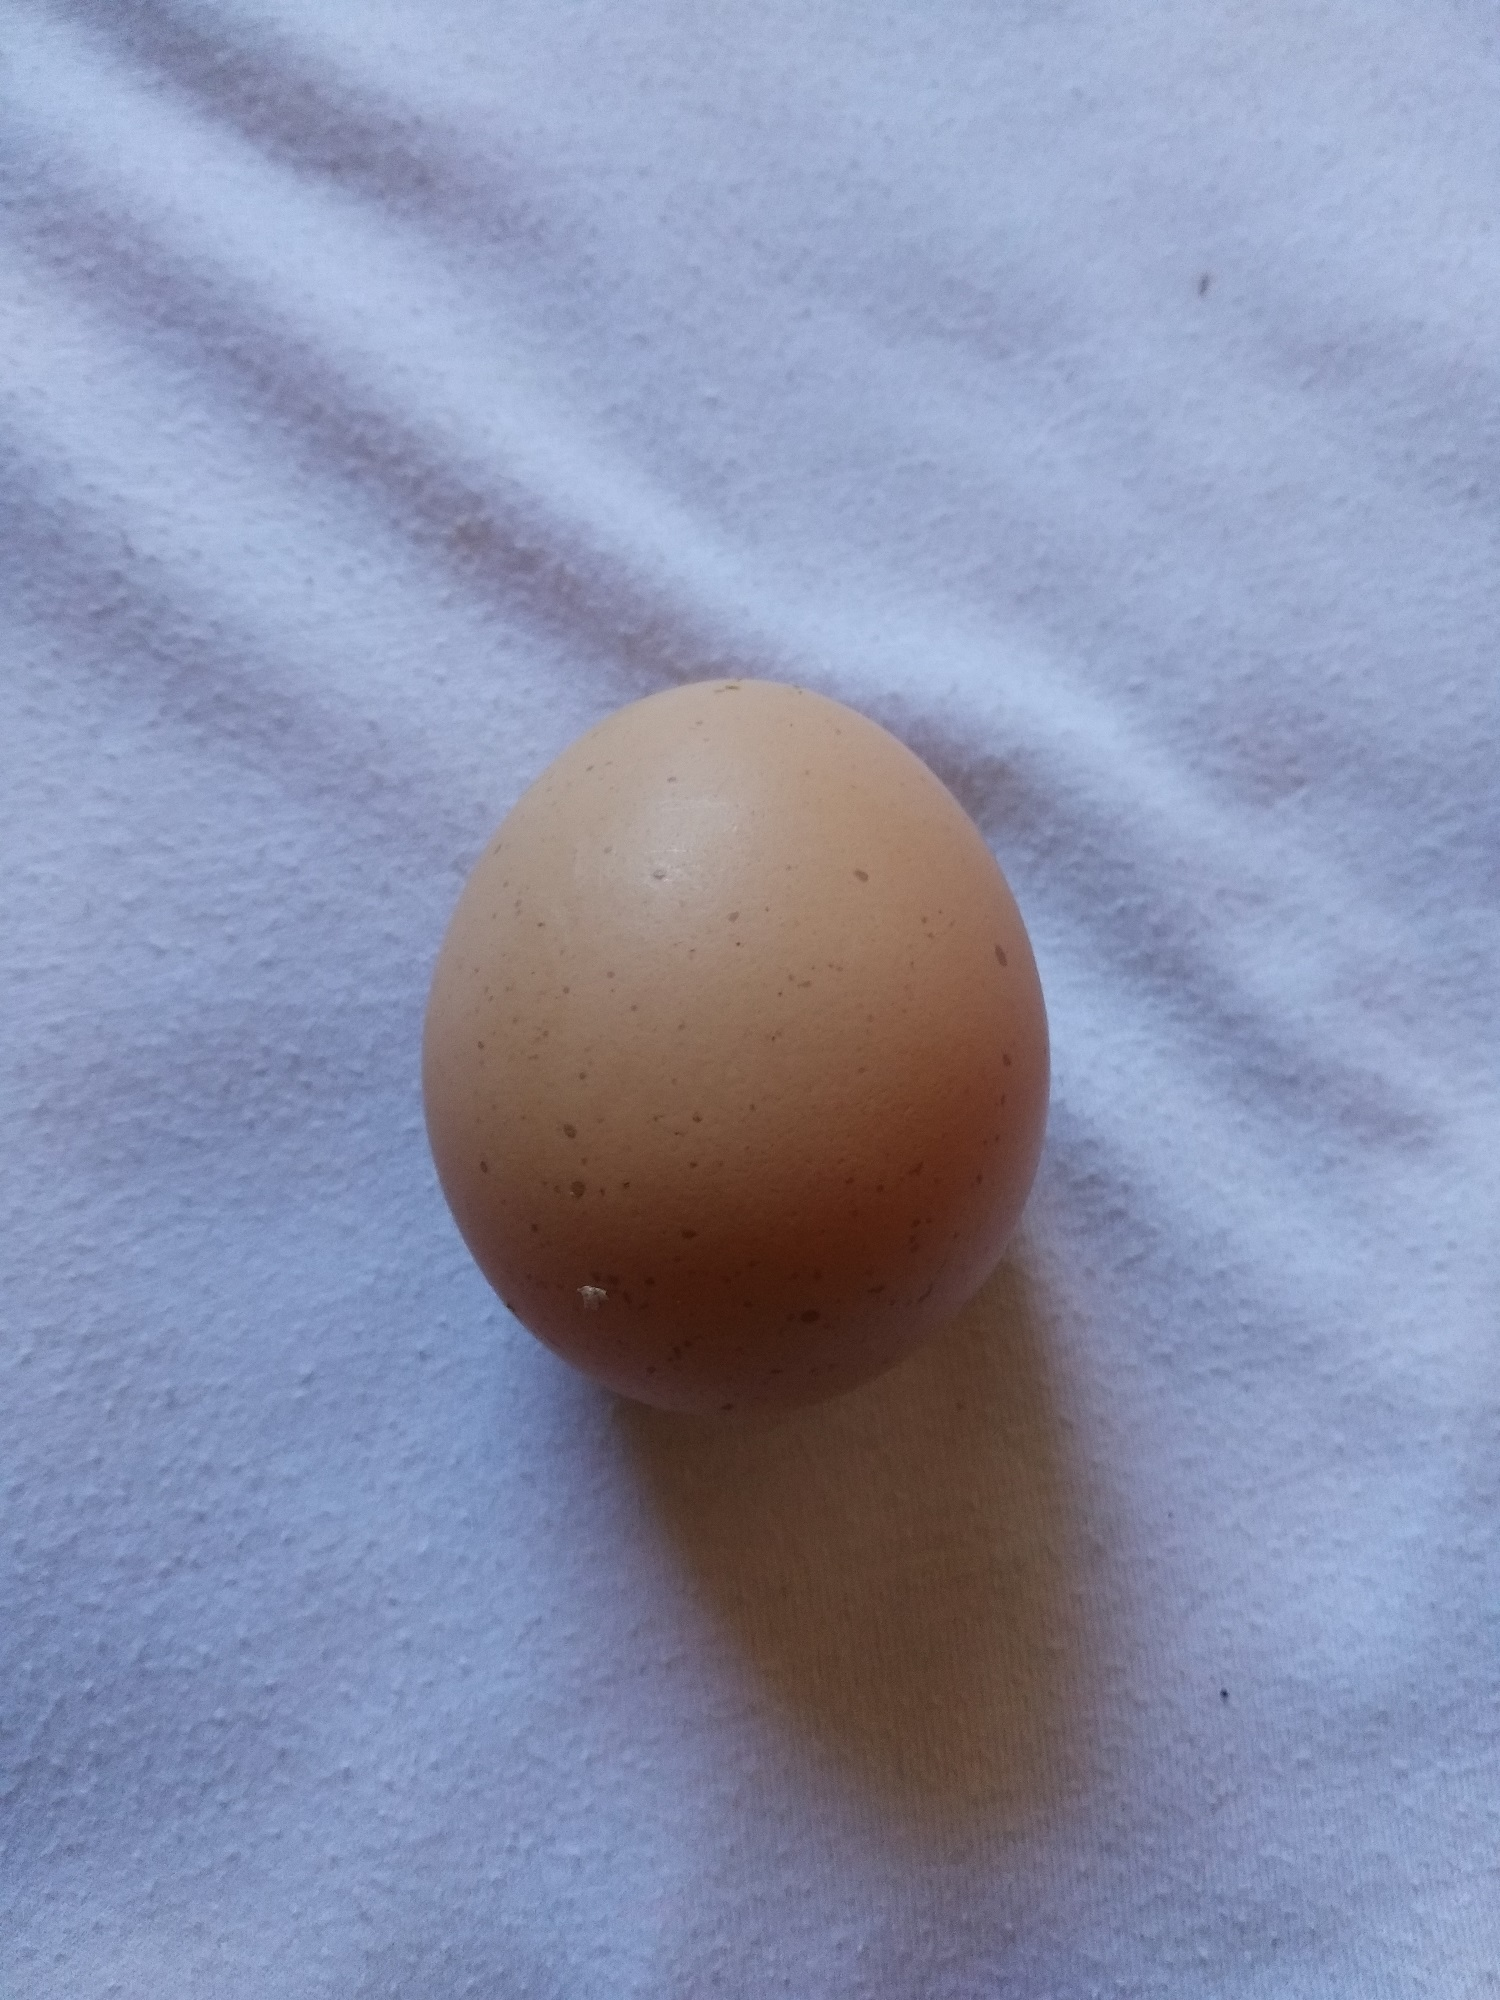Female: (407, 665, 1062, 1431)
